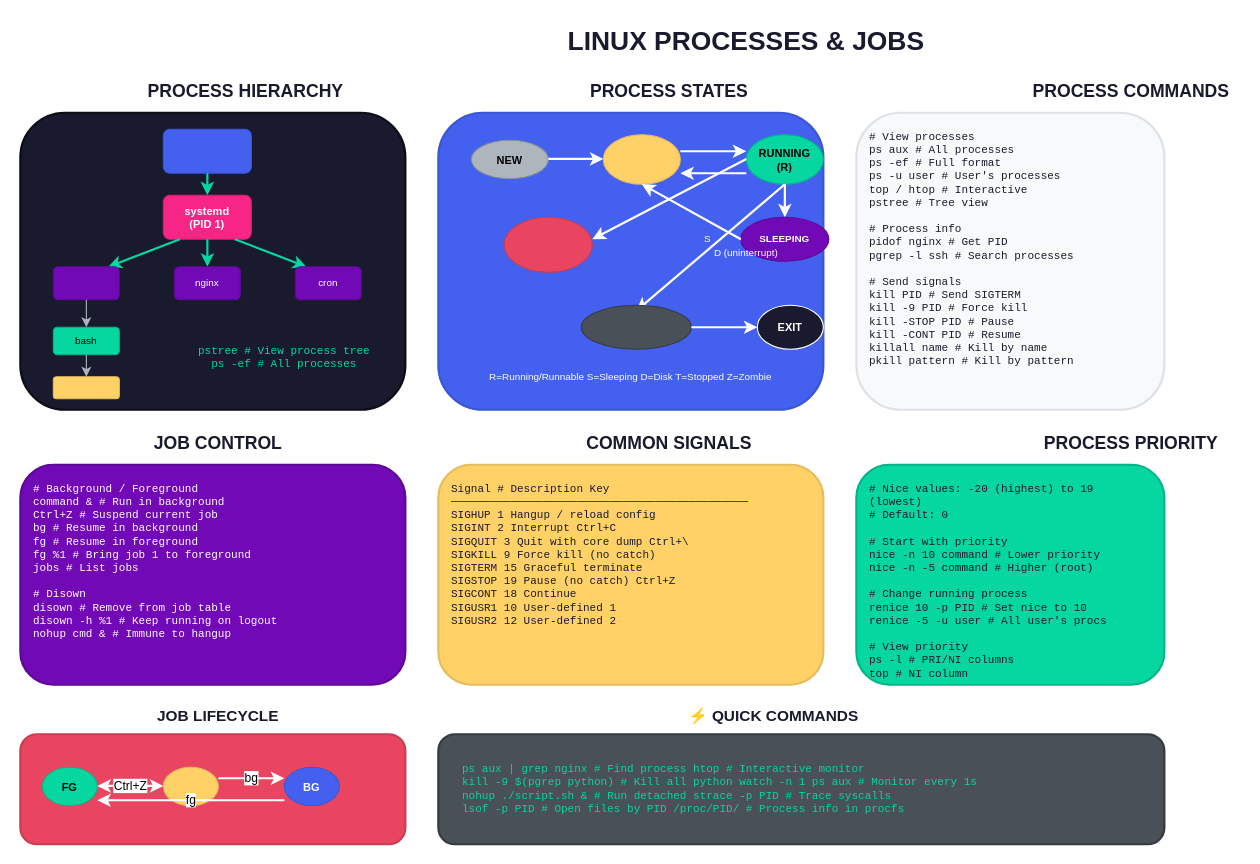
This 1260x864 diagram has some shape labels left out. The shapes that lost their labels are listed below. From the top down, each one's centre as x and y in pixels, then its label:
the point at 206,150: Kernel (PID 0)
the point at 641,159: READY (R)
the point at 547,244: STOPPED (T)
the point at 85,283: sshd
the point at 635,326: ZOMBIE (Z)
the point at 85,387: vim
the point at 190,786: STOP
